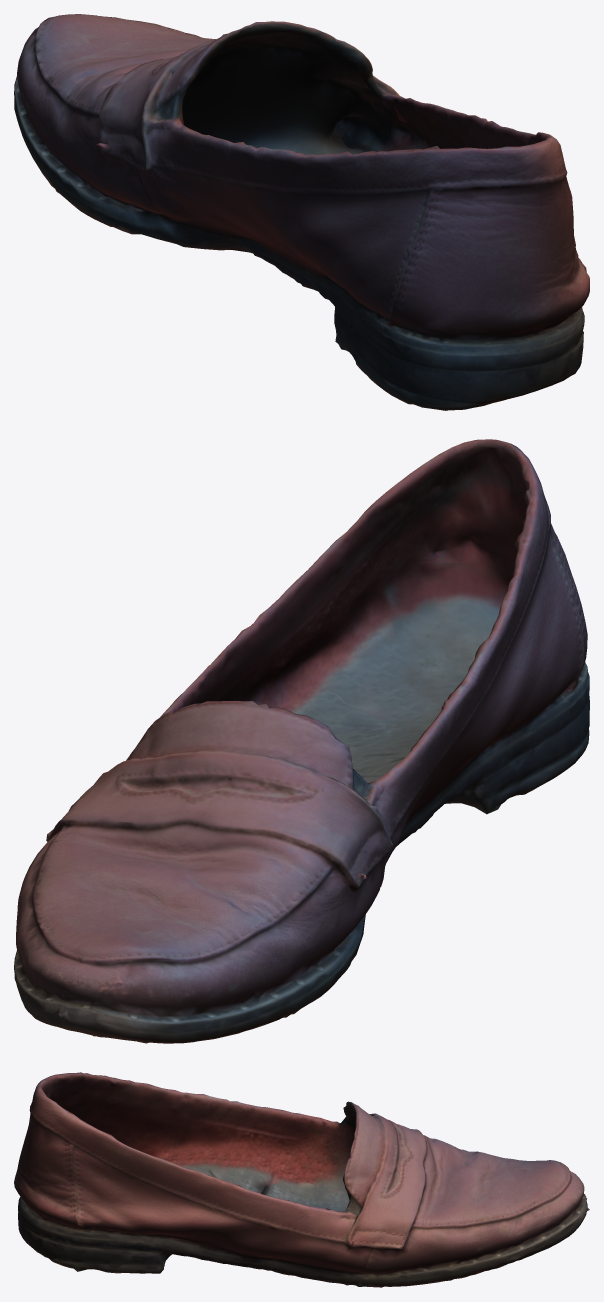
The model's file is shoe.gltf.
3 renders of one model, top to bottom at view 1: azimuth 30°, elevation 25°; view 2: azimuth 150°, elevation 25°; view 3: azimuth 270°, elevation 25°, orthographic. The views are drawn at different scales.
Visible parts, largest first — view 1: Old red womens shoes; view 2: Old red womens shoes; view 3: Old red womens shoes.
Part boxes in pixels (left/top/right/bottom): Old red womens shoes: left=14, top=14, right=589, bottom=410; Old red womens shoes: left=14, top=439, right=589, bottom=1043; Old red womens shoes: left=14, top=1072, right=589, bottom=1287.
Size of the model in its own units: 1.29 by 1.1 by 3.47.
Materials: 1 (1 with a texture image).
